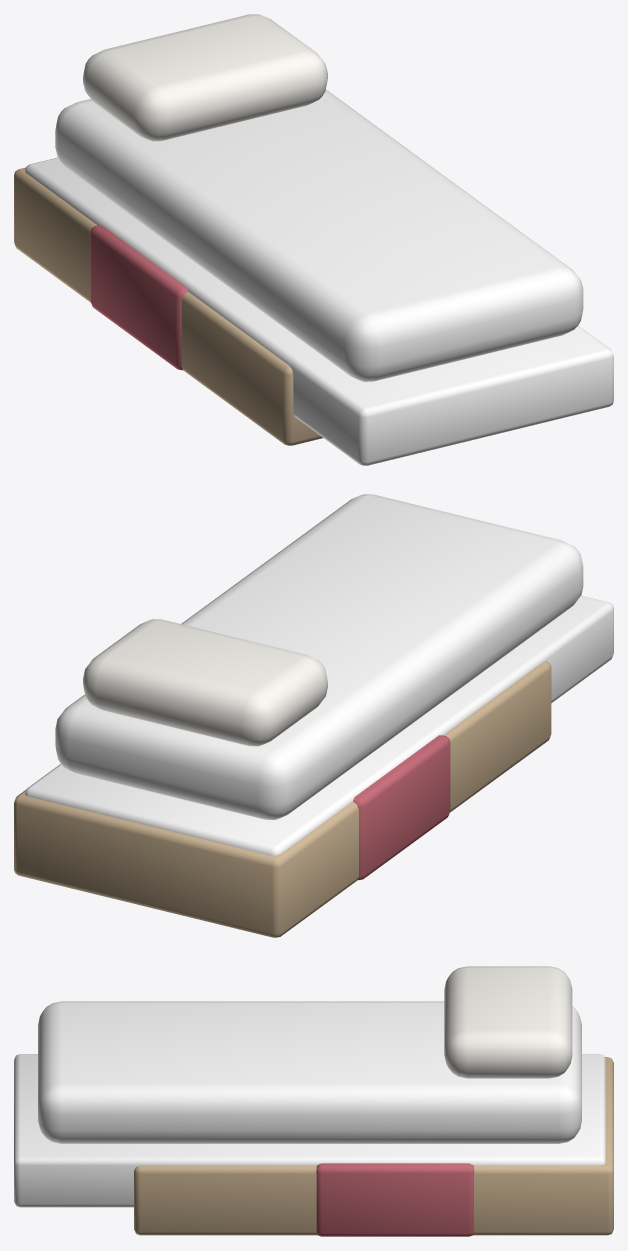
File: sc_bed.glb
The picture shows the model from 3 angles, top to bottom: view 1: azimuth 30°, elevation 25°; view 2: azimuth 150°, elevation 25°; view 3: azimuth 270°, elevation 25°; orthographic projection. The views are drawn at different scales.
Visible parts, largest first — view 1: Bed_Mattress, Bed_Tray, Bed_Pillow, Bed_Sleeve, Bed_SleeveStripe; view 2: Bed_Mattress, Bed_Sleeve, Bed_Tray, Bed_Pillow, Bed_SleeveStripe; view 3: Bed_Mattress, Bed_Sleeve, Bed_Tray, Bed_Pillow, Bed_SleeveStripe.
Part boxes in pixels (x1=…): Bed_Mattress: x1=55, y1=89, x2=583, y2=381; Bed_Tray: x1=25, y1=157, x2=613, y2=465; Bed_Pillow: x1=83, y1=14, x2=327, y2=141; Bed_Sleeve: x1=14, y1=167, x2=322, y2=445; Bed_SleeveStripe: x1=90, y1=225, x2=187, y2=370; Bed_Mattress: x1=55, y1=494, x2=583, y2=819; Bed_Sleeve: x1=14, y1=661, x2=551, y2=937; Bed_Tray: x1=25, y1=596, x2=613, y2=855; Bed_Pillow: x1=83, y1=619, x2=327, y2=746; Bed_SleeveStripe: x1=353, y1=735, x2=450, y2=880; Bed_Mattress: x1=38, y1=1001, x2=581, y2=1143; Bed_Sleeve: x1=134, y1=1057, x2=613, y2=1235; Bed_Tray: x1=14, y1=1054, x2=605, y2=1207; Bed_Pillow: x1=444, y1=966, x2=572, y2=1078; Bed_SleeveStripe: x1=316, y1=1163, x2=474, y2=1236.
Bounding box in the file's own units: 0.129 × 0.094 × 0.2812.
